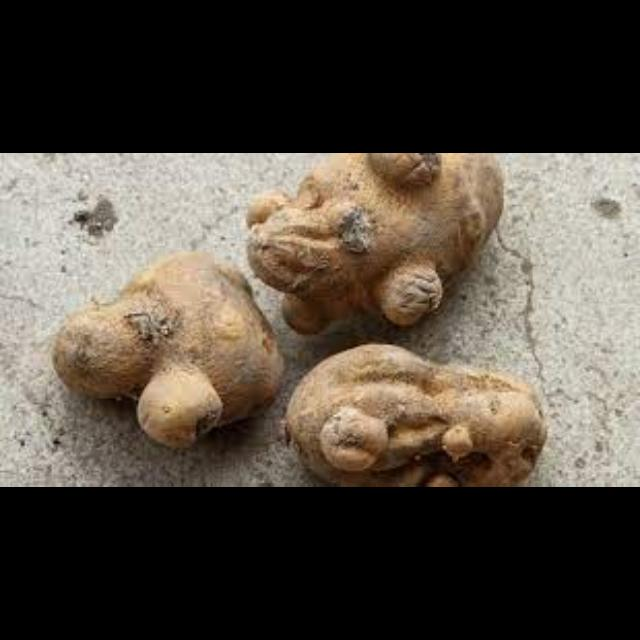Damaged potato: (238, 154, 508, 336), (58, 246, 286, 454), (287, 341, 553, 484)
